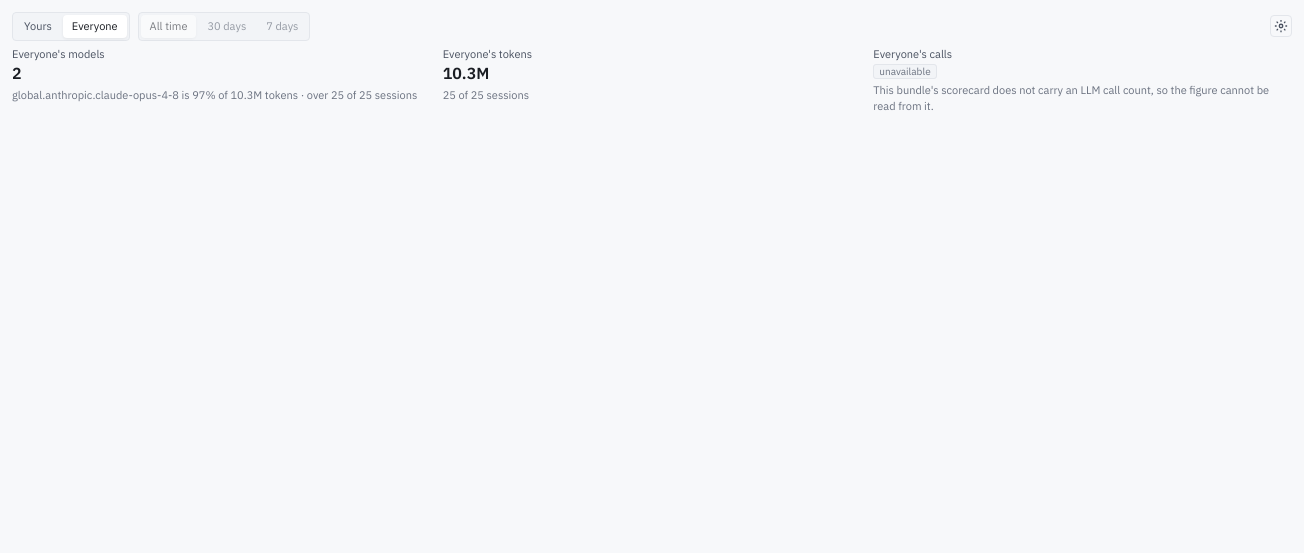
Scenario: MetricBlock — absent against unmeasured › hands the per-model roster to both channels, and its head to the footnote
Expected: the element with test id "metric-tile" that starts with "Everyone's models" is shown, [12, 46, 431, 102]
Expected: the element with test id "metric-tile-value" reads "2", [12, 62, 22, 82]
What coordinates should you click on to do the following:
click the button with test id "metric-picker-toggle"
I would click on:
 (1281, 26)
Its box is [1270, 15, 1292, 37].
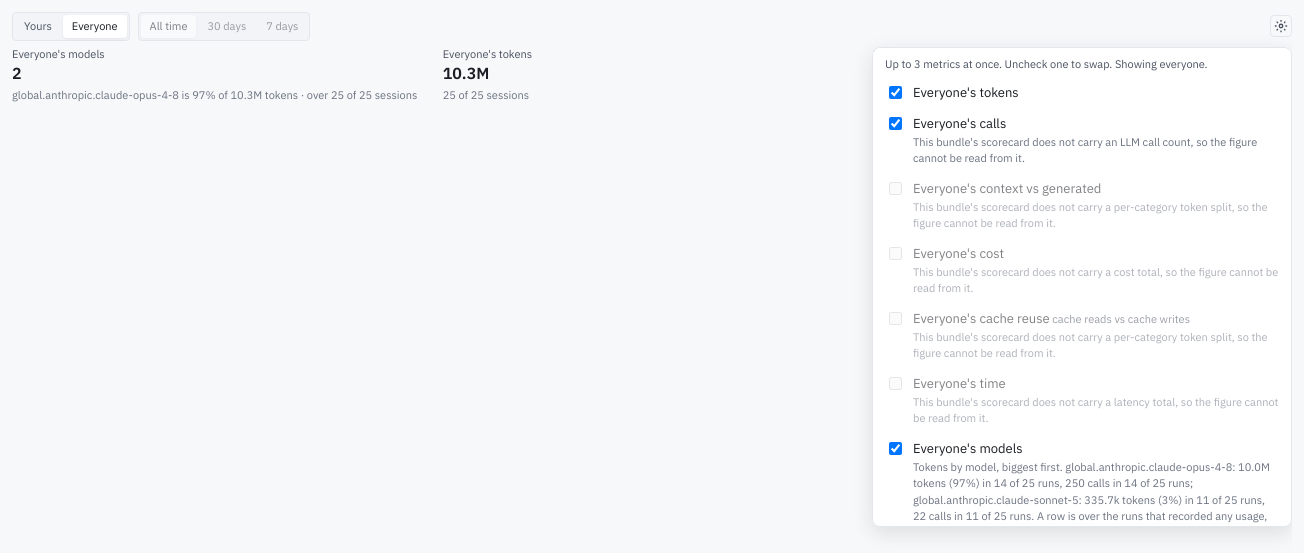
Expected: the text with test id "metric-option-caveat-modelsUsed" shows "global.anthropic.claude-sonnet-5: 335.7k tokens (3%) in 11 of 25 runs", [913, 460, 1270, 526]
